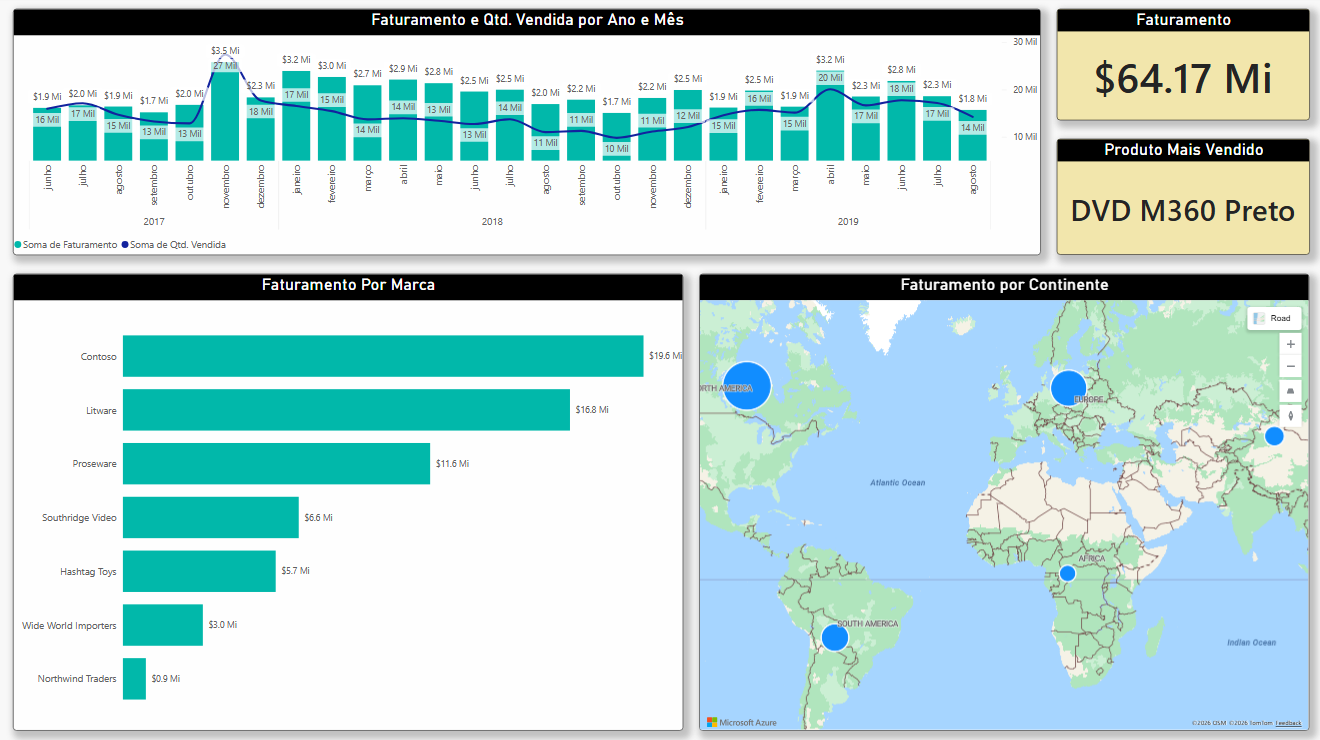

This screenshot's page, from the dashboard's own definition file:
{"tool":"powerbi","page":{"name":"Página 1","canvas":[1920,1080],"ordinal":0},"visuals":[{"type":"cardVisual","title":"Faturamento","fields":{"Data":["Sum(BaseVendas.Faturamento)"]},"box":[1540,20,366.2,161.2],"z":0},{"type":"cardVisual","title":"Produto Mais Vendido","fields":{"Data":["Min(BaseVendas.Produto)"]},"box":[1540,208.3,366.7,168.3],"z":1},{"type":"barChart","title":"Faturamento Por Marca","fields":{"Category":["BaseVendas.Marca"],"Y":["Sum(BaseVendas.Faturamento)"]},"box":[28.3,403.3,970,661.7],"z":2},{"type":"lineStackedColumnComboChart","title":"Faturamento e Qtd. Vendida por Ano e Mês","fields":{"Category":["BaseVendas.Data da Venda.Variation.Hierarquia de datas.Ano","BaseVendas.Data da Venda.Variation.Hierarquia de datas.Mês"],"Y":["Sum(BaseVendas.Faturamento)"],"Y2":["Sum(BaseVendas.Qtd. Vendida)"]},"box":[28.3,20,1488.3,356.7],"z":3},{"type":"azureMap","title":"Faturamento por Continente","fields":{"Category":["BaseVendas.Continente"],"Size":["Sum(BaseVendas.Faturamento)"]},"box":[1023.3,403.3,883.3,661.7],"z":4}]}

Visuals, with their boxes in screenshot pixels (x1, y1, x2, y2), scaled from the page's 1920x1080 canvas onto the 1320x740 screenshot:
"Faturamento" cardVisual: x1=1059, y1=14, x2=1311, y2=124
"Produto Mais Vendido" cardVisual: x1=1059, y1=143, x2=1311, y2=258
"Faturamento Por Marca" barChart: x1=19, y1=276, x2=686, y2=730
"Faturamento e Qtd. Vendida por Ano e Mês" lineStackedColumnComboChart: x1=19, y1=14, x2=1043, y2=258
"Faturamento por Continente" azureMap: x1=704, y1=276, x2=1311, y2=730
